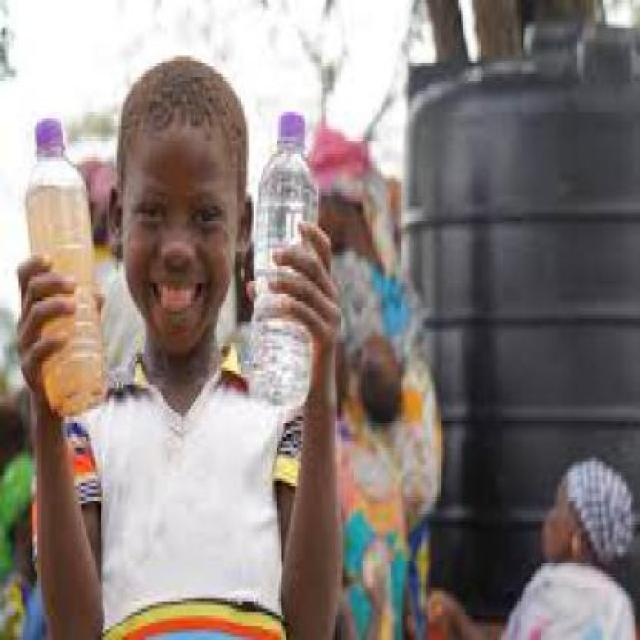Drinking: (18, 101, 112, 434), (247, 102, 328, 420)
